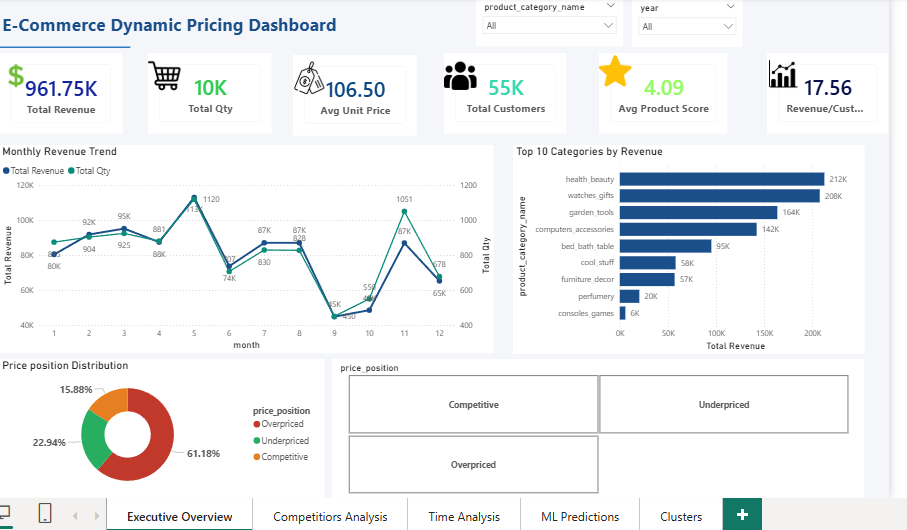

What the dashboard file says about the page in this screenshot:
{"tool":"powerbi","page":{"name":"Executive Overview","canvas":[1366,768],"ordinal":0},"visuals":[{"type":"textbox","box":[0,0,959.2,84],"z":0},{"type":"shape","box":[0,0,201.6,151.2],"z":1000},{"type":"cardVisual","title":"Total Revenue","fields":{"Data":["ecommerce_final (1).Total Revenue"]},"box":[0,84,189.8,124.3],"z":2000},{"type":"cardVisual","title":"Total Revenue","fields":{"Data":["ecommerce_final (1).Avg Unit Price"]},"box":[451.7,87.8,190,123.7],"z":3000},{"type":"cardVisual","title":"Total Revenue","fields":{"Data":["ecommerce_final (1).Total Qty"]},"box":[229.5,84.3,190,123.7],"z":4000},{"type":"cardVisual","title":"Total Revenue","fields":{"Data":["ecommerce_final (1).Revenue per Customer"]},"box":[1179.6,84.3,186.4,123.7],"z":5000},{"type":"cardVisual","title":"Total Revenue","fields":{"Data":["ecommerce_final (1).Avg Product Score"]},"box":[921.4,84.3,197.2,123.7],"z":6000},{"type":"cardVisual","title":"Total Revenue","fields":{"Data":["ecommerce_final (1).Total Customers"]},"box":[683,84.3,188.2,123.7],"z":7000},{"type":"lineChart","title":"Monthly Revenue Trend","fields":{"Y":["ecommerce_final (1).Total Revenue"],"Y2":["ecommerce_final (1).Total Qty"],"Category":["ecommerce_final (1).month"]},"box":[0,225.1,760,320],"z":8000},{"type":"clusteredBarChart","title":"Top 10 Categories by Revenue","fields":{"Category":["ecommerce_final (1).product_category_name"],"Y":["ecommerce_final (1).Total Revenue"]},"box":[788.8,225.9,539.6,320.9],"z":9000},{"type":"donutChart","title":"Price position Distribution","fields":{"Category":["ecommerce_final (1).price_position"],"Y":["ecommerce_final (1).Total Revenue"]},"box":[0,555,500,213],"z":10000},{"type":"slicer","fields":{"Values":["ecommerce_final (1).year"]},"box":[972.3,1.5,170.5,73.7],"z":11000},{"type":"slicer","fields":{"Values":["ecommerce_final (1).product_category_name"]},"box":[732.7,0,225.8,73.7],"z":12000},{"type":"slicer","fields":{"Values":["ecommerce_final (1).price_position"]},"box":[510.9,553.9,817.4,213.3],"z":13000},{"type":"image","box":[0,100.4,52,39.4],"z":14000},{"type":"image","box":[229.5,84.3,50,70],"z":15000},{"type":"image","box":[451.7,87.8,50,69.9],"z":16000},{"type":"image","box":[683,84.3,50.2,69.9],"z":17000},{"type":"image","box":[921.4,77.1,50.2,69.9],"z":18000},{"type":"image","box":[1179.6,80.7,50.2,69.9],"z":19000}]}

Visuals, with their boxes on the page's 1366x768 design canvas (x1, y1, x2, y2). These are canvas units, not pixel positions in the 907x530 screenshot, which may show the page scaled, cropped or inside an application window:
textbox: region(0, 0, 959, 84)
shape: region(0, 0, 202, 151)
"Total Revenue" cardVisual: region(0, 84, 190, 208)
"Total Revenue" cardVisual: region(452, 88, 642, 212)
"Total Revenue" cardVisual: region(230, 84, 420, 208)
"Total Revenue" cardVisual: region(1180, 84, 1366, 208)
"Total Revenue" cardVisual: region(921, 84, 1119, 208)
"Total Revenue" cardVisual: region(683, 84, 871, 208)
"Monthly Revenue Trend" lineChart: region(0, 225, 760, 545)
"Top 10 Categories by Revenue" clusteredBarChart: region(789, 226, 1328, 547)
"Price position Distribution" donutChart: region(0, 555, 500, 768)
slicer - ecommerce_final (1).year: region(972, 2, 1143, 75)
slicer - ecommerce_final (1).product_category_name: region(733, 0, 958, 74)
slicer - ecommerce_final (1).price_position: region(511, 554, 1328, 767)
image: region(0, 100, 52, 140)
image: region(230, 84, 280, 154)
image: region(452, 88, 502, 158)
image: region(683, 84, 733, 154)
image: region(921, 77, 972, 147)
image: region(1180, 81, 1230, 151)
